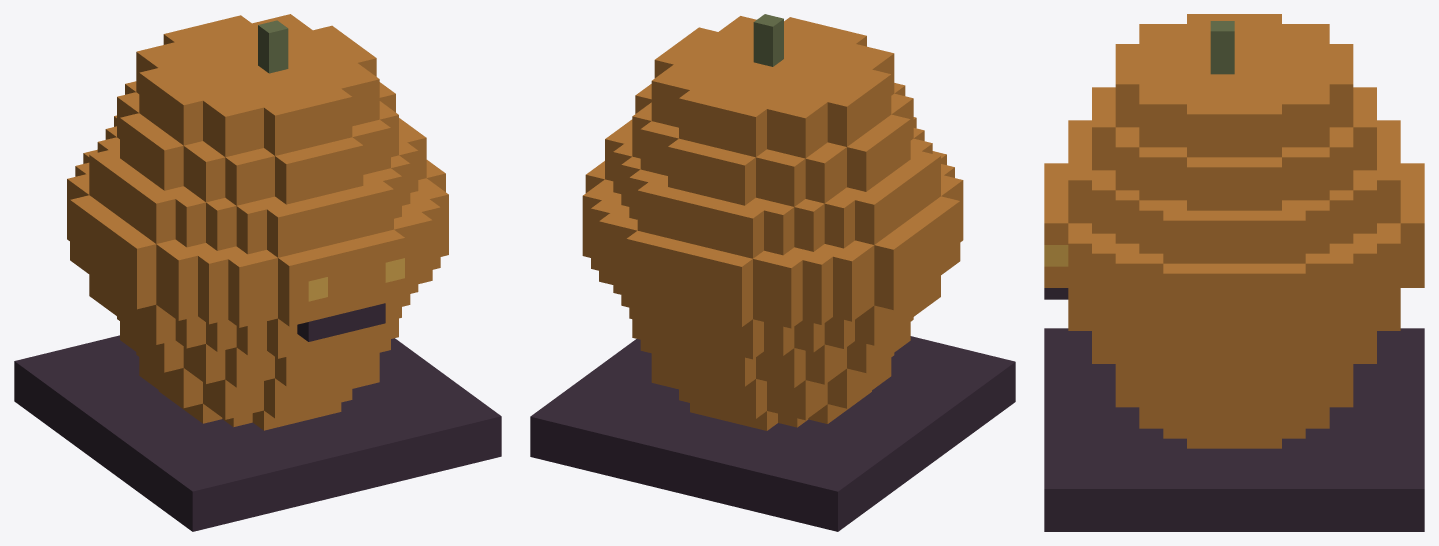
The model's file is landmark.glb.
3 renders of one model, left to right at view 1: azimuth 30°, elevation 25°; view 2: azimuth 150°, elevation 25°; view 3: azimuth 270°, elevation 25°, orthographic. The views are drawn at different scales.
Visible parts, largest first — view 1: Shell; view 2: Shell; view 3: Shell.
Boxes of the visible parts, x1,y1,x2,y2 form: Shell: [14, 14, 501, 531]; Shell: [530, 14, 1015, 531]; Shell: [1044, 14, 1424, 531].
Size of the model in its own units: 2 by 2.5 by 2.
